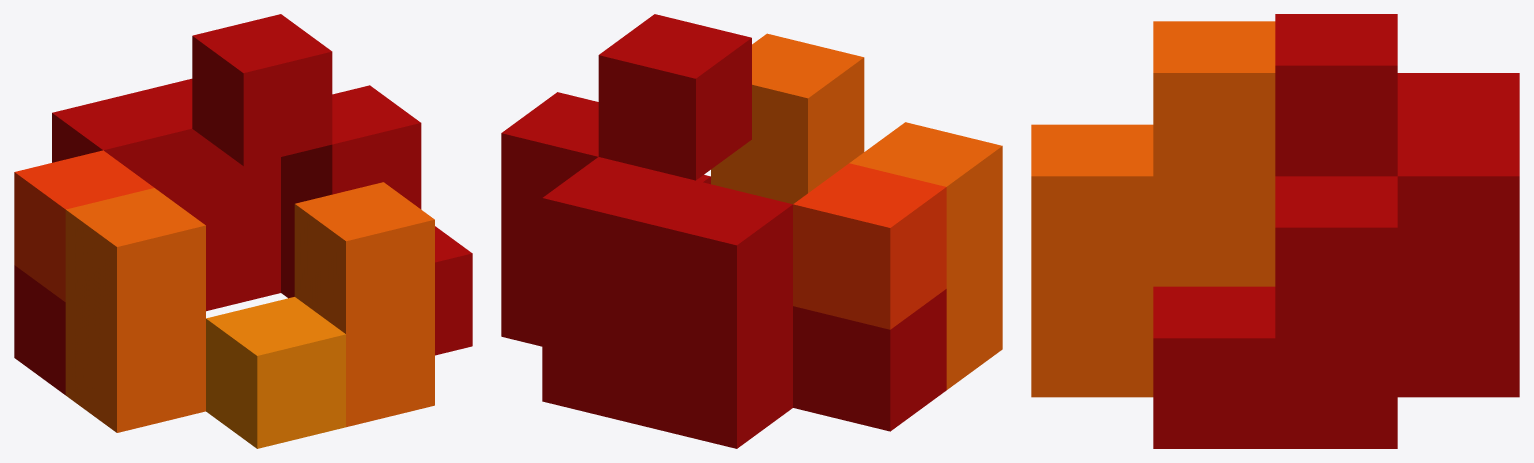
The model's file is risingbubble.obj.
3 renders of one model, left to right at view 1: azimuth 30°, elevation 25°; view 2: azimuth 150°, elevation 25°; view 3: azimuth 270°, elevation 25°, orthographic. The views are drawn at different scales.
Size of the model in its own units: 0.4 by 0.3 by 0.4.
1 material, 1 textured.
